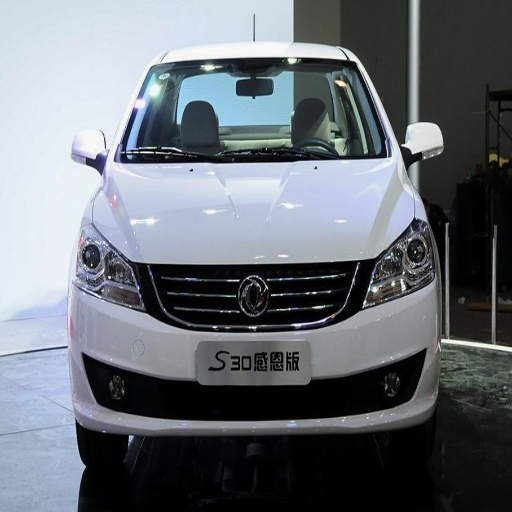front_bumper: (71, 259, 441, 423)
front_right_light: (74, 218, 144, 310)
hood: (93, 158, 414, 327)
left_mirror: (402, 122, 445, 165)
